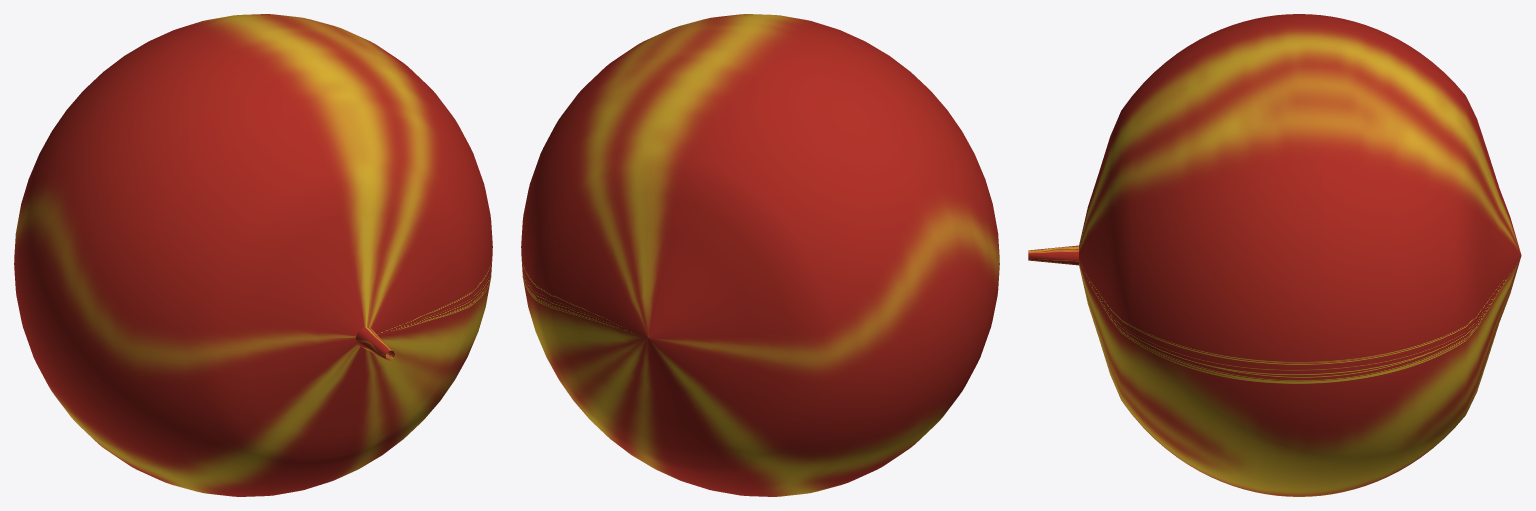
Rendered from apple_04_v2.obj.
3 views of the same model, side by side, from view 1: azimuth 30°, elevation 25°; view 2: azimuth 150°, elevation 25°; view 3: azimuth 270°, elevation 25° (orthographic).
Bounding box in the file's own units: 2 × 2 × 2.04.
1 material, 1 textured.
